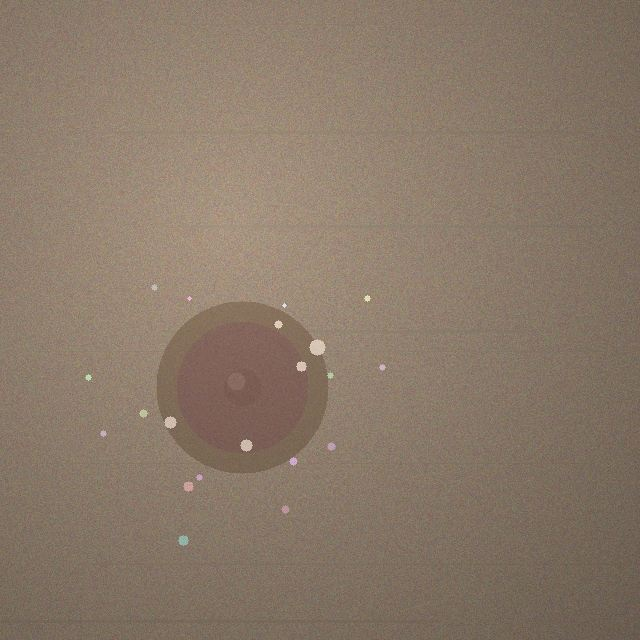overburn: (156, 301, 328, 473)
